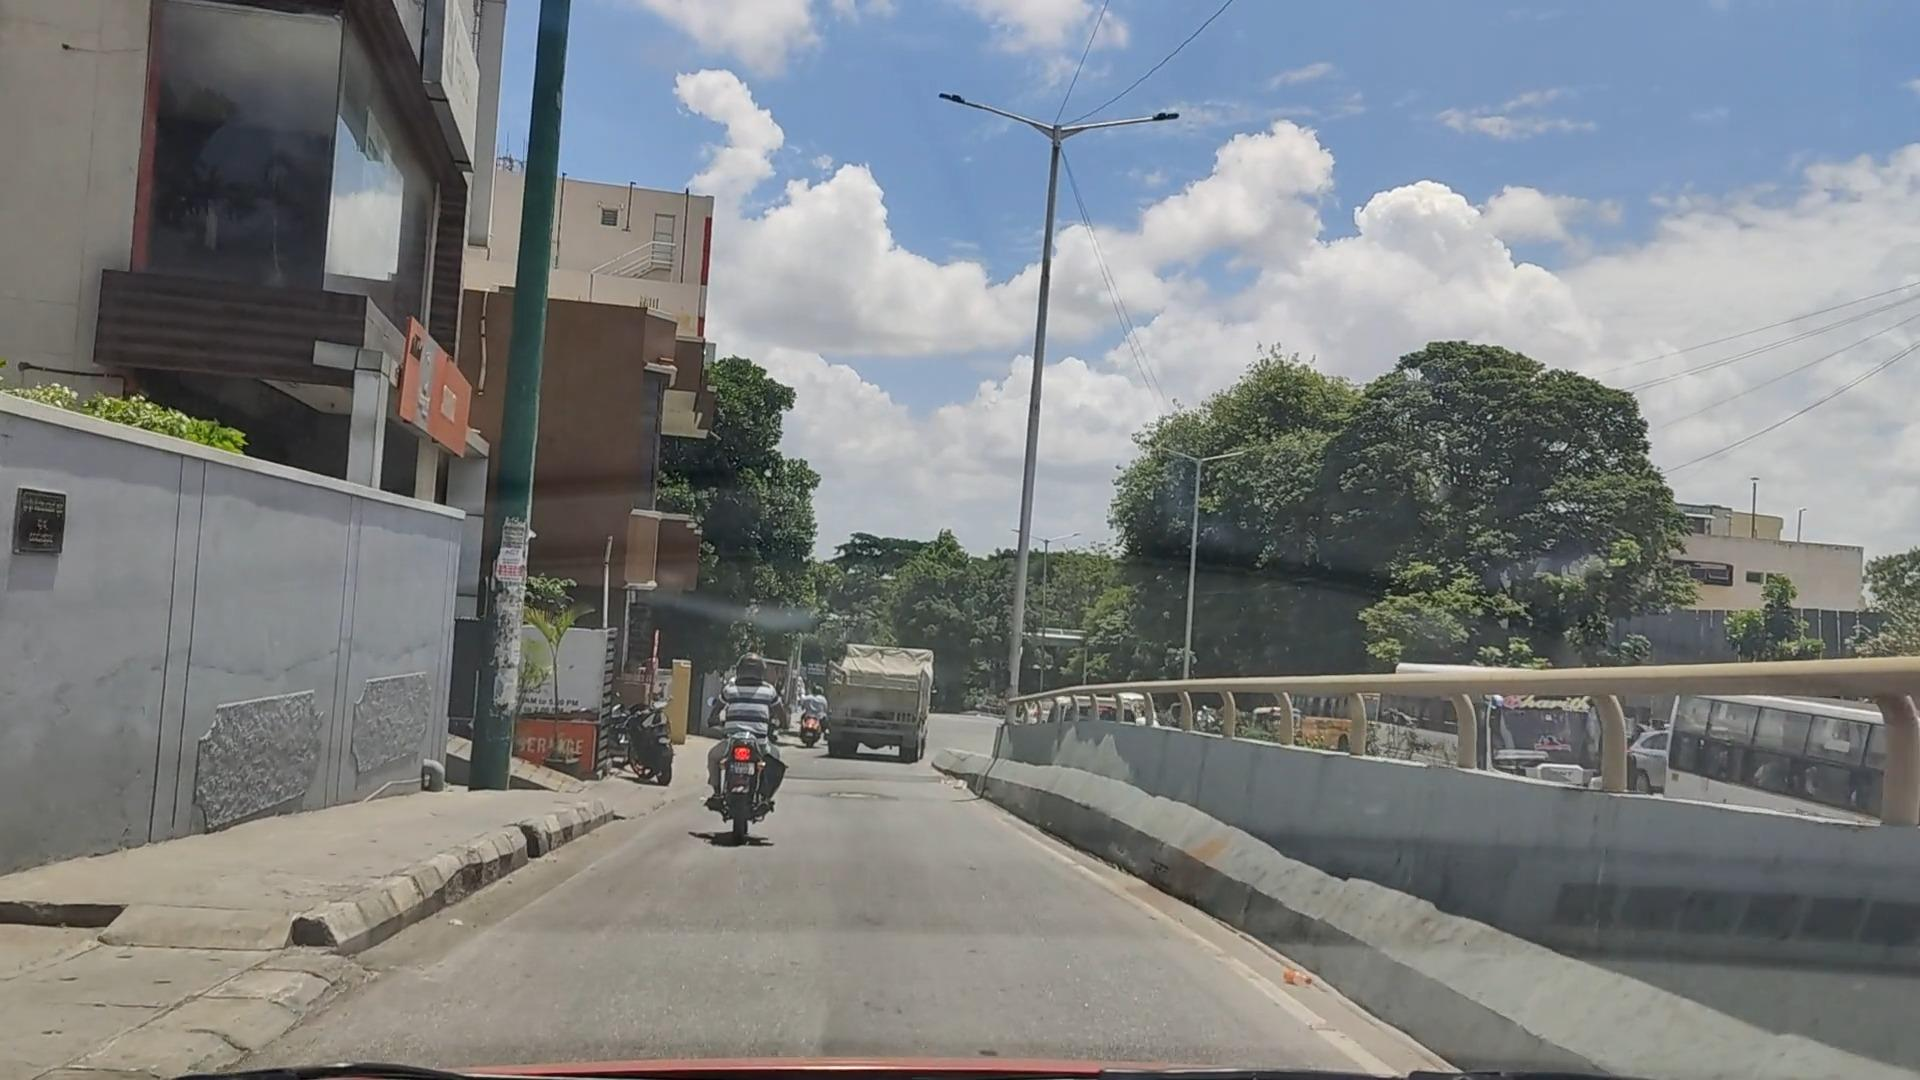HMV: (818, 620, 943, 777)
LMV: (692, 630, 815, 849)
